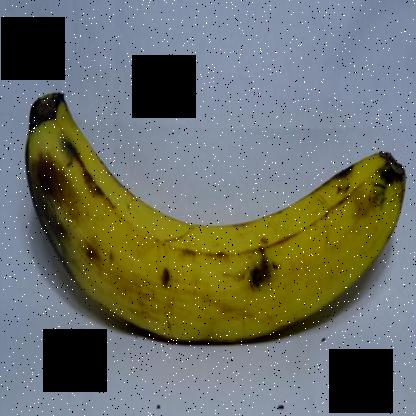ripe: (19, 70, 415, 362)
